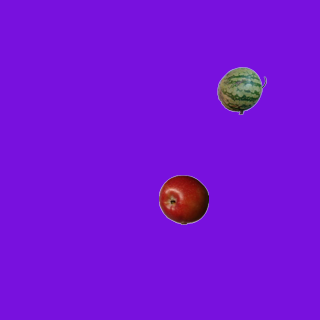Apple Braeburn: (158, 174, 208, 224)
Watermelon: (216, 65, 266, 115)
